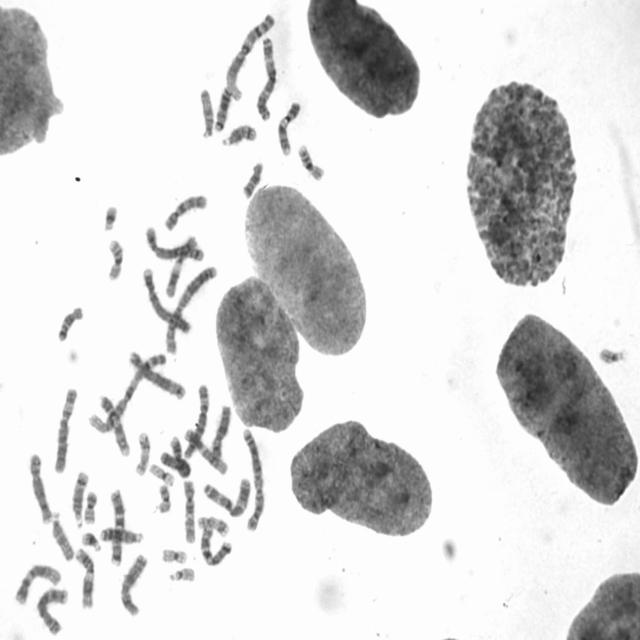A1: (84, 347, 168, 435), (222, 8, 276, 103)
A2: (162, 260, 218, 356), (238, 423, 267, 533)
A3: (200, 472, 253, 518), (253, 32, 278, 122)
B4: (139, 261, 193, 336), (156, 445, 192, 479)
B5: (124, 345, 188, 401), (142, 220, 205, 262)
C10: (161, 189, 208, 232), (179, 474, 197, 545)
C11: (162, 230, 200, 298), (72, 542, 96, 610)
C12: (181, 423, 229, 476), (11, 558, 63, 606)
C6: (50, 382, 78, 475), (180, 379, 211, 461)
C7: (196, 519, 234, 568), (106, 484, 126, 567)
C8: (25, 448, 53, 526), (33, 583, 70, 636)
C9: (95, 389, 132, 458), (274, 96, 302, 156)
D13: (211, 81, 236, 133), (97, 522, 144, 545)
D14: (68, 466, 90, 528), (218, 118, 258, 148)
D15: (48, 508, 76, 562), (196, 83, 215, 141)
E16: (294, 139, 326, 182), (103, 234, 125, 282)
E17: (131, 427, 152, 478), (194, 510, 231, 537)
E18: (54, 301, 85, 343), (238, 157, 264, 199)
F19: (146, 458, 176, 487), (158, 543, 188, 566)
F20: (80, 486, 99, 524), (154, 479, 172, 514)
G21: (100, 200, 120, 232), (78, 527, 102, 553)
G22: (594, 342, 628, 364), (166, 563, 197, 584)
X: (116, 549, 150, 618), (207, 400, 233, 460)
